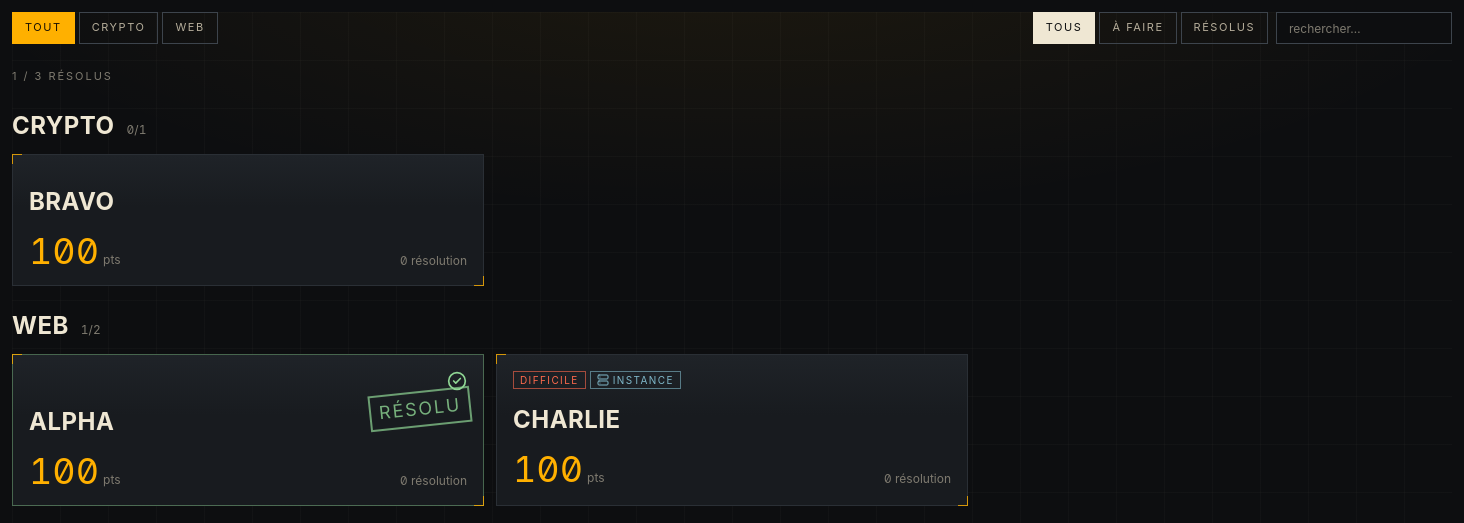
Test case: ChallengeBoard › filtre par catégorie, statut et recherche
Click the button "crypto" at (118, 28), box [79,12,158,44]
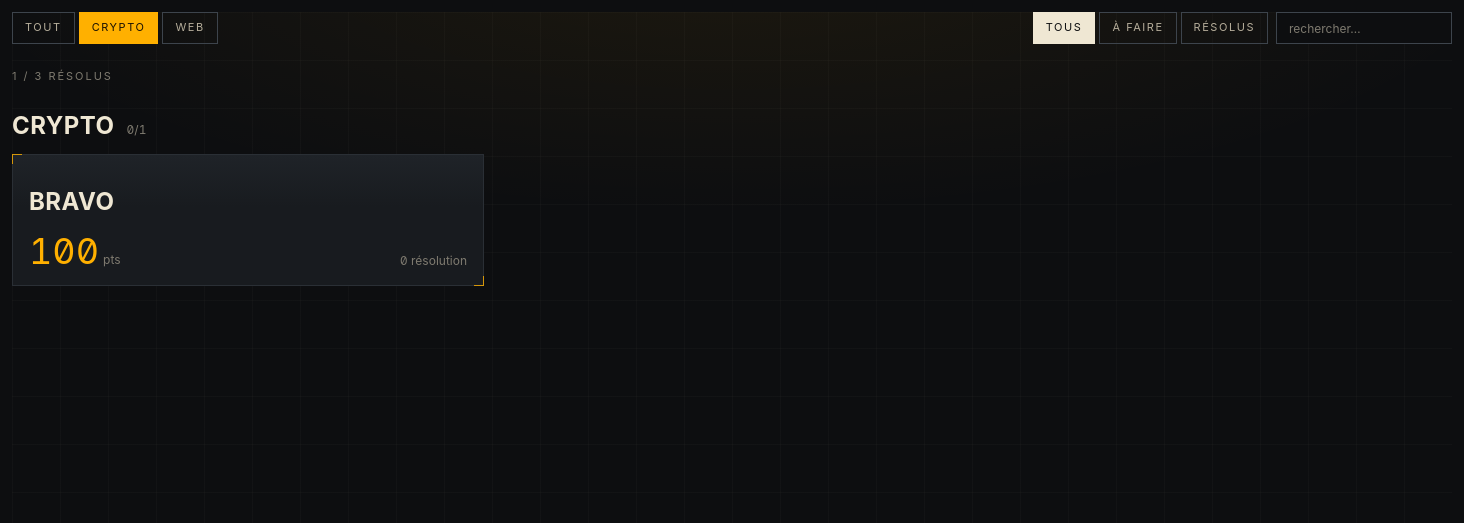
Expected: the heading "Bravo" is shown, [29,187,114,216]
Expected: the link "Alpha" is gone
Click the button "Tout" at (43, 28), box [12,12,75,44]
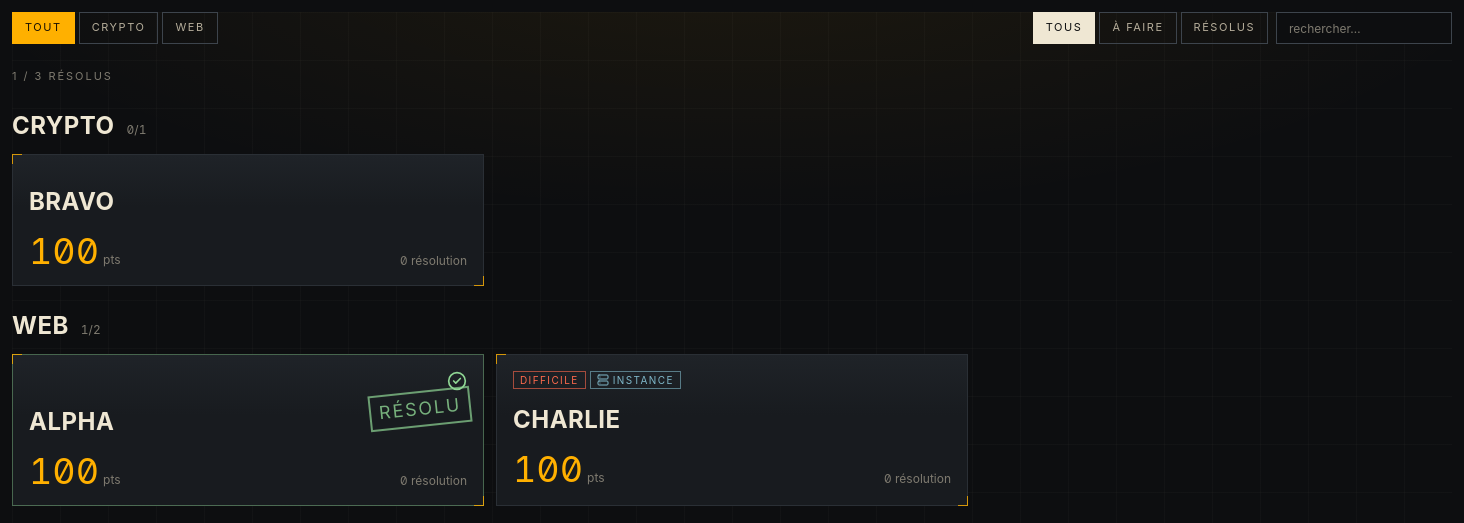
Click the button "Résolus" at (1224, 28), box [1181,12,1268,44]
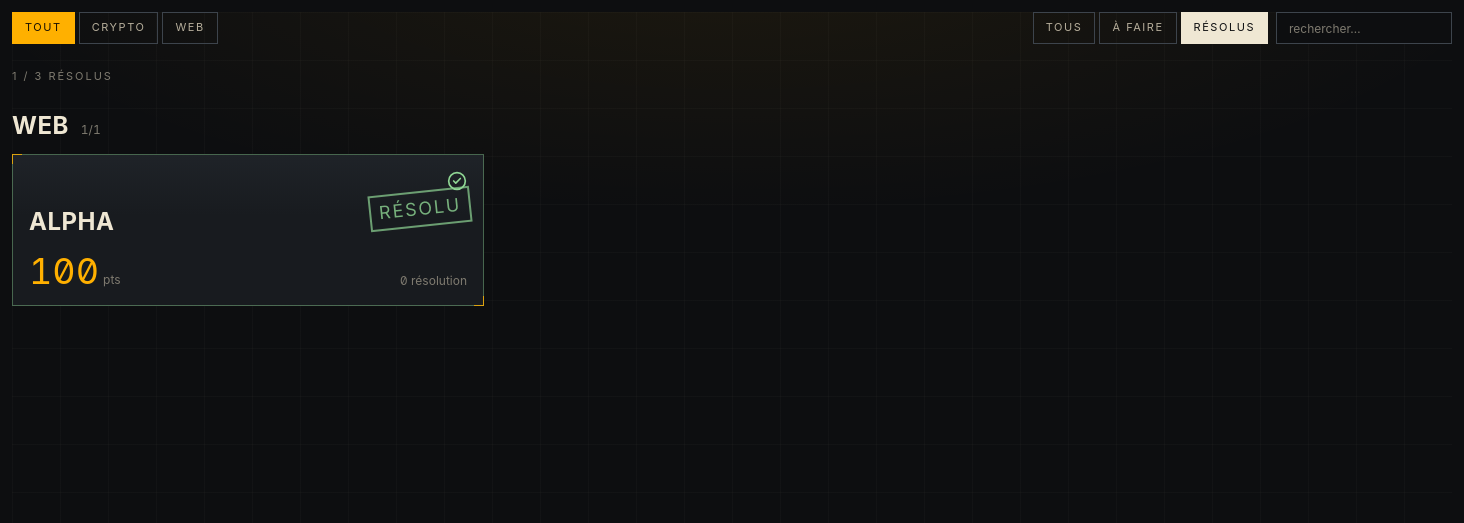
Expected: the heading "Alpha" is shown, [29,207,114,236]
Expected: the link "Charlie" is gone
Click the button "Tous" at (1064, 28), box [1033,12,1095,44]
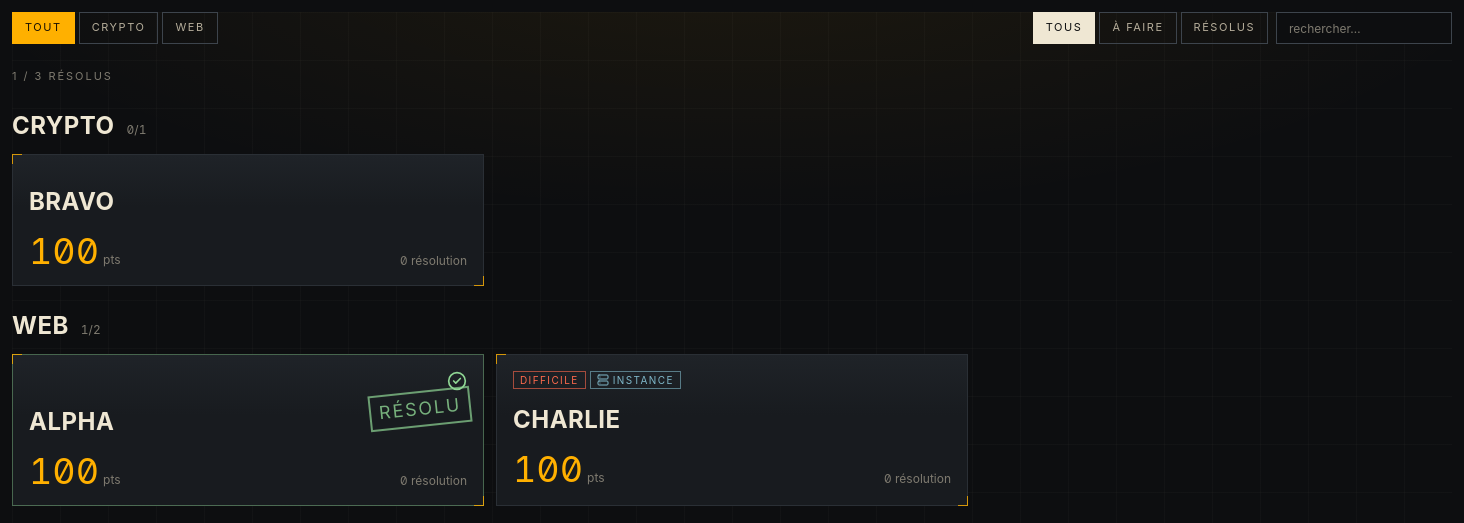
Type "char" into the search field named "Rechercher un challenge" at (1364, 28), box [1276,12,1452,44]
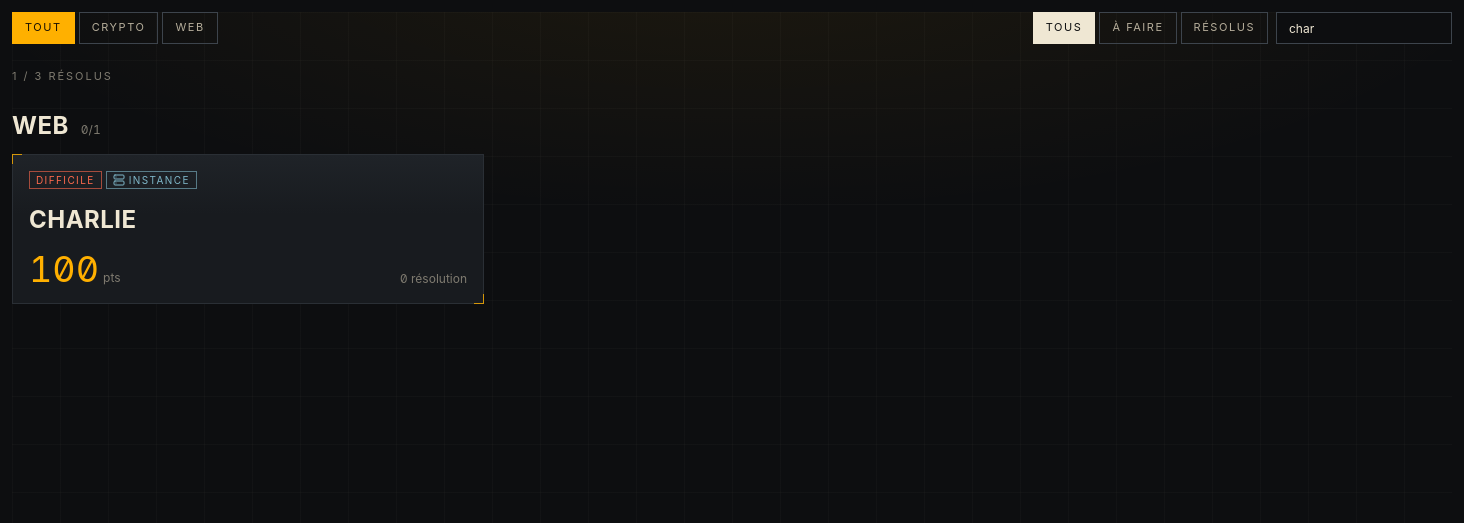
Expected: the heading "Charlie" is shown, [29,205,137,234]
Expected: the link "Bravo" is gone
